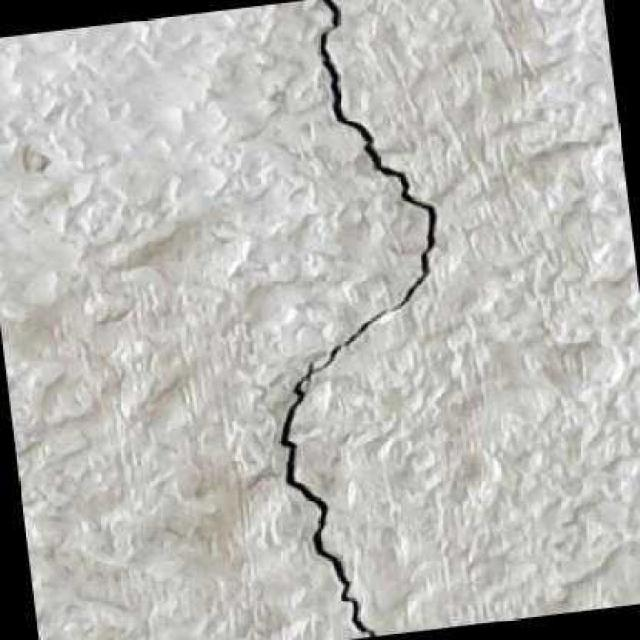D00: (277, 0, 437, 637)
